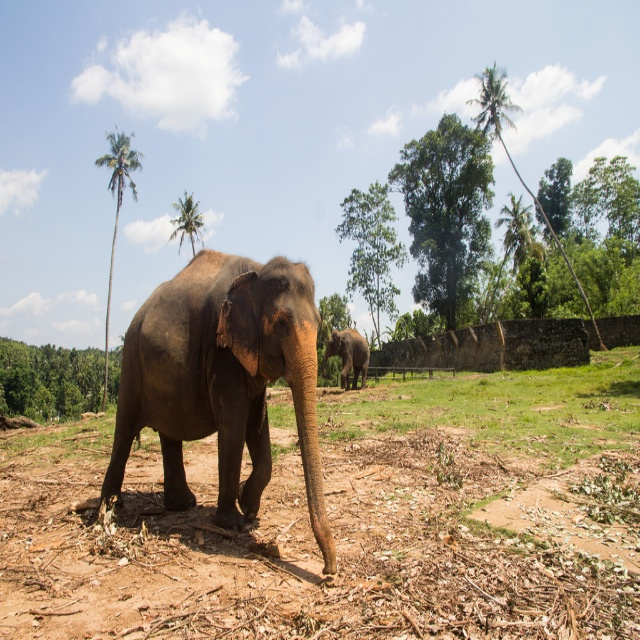Elephant: (100, 248, 337, 575), (322, 329, 370, 391)
